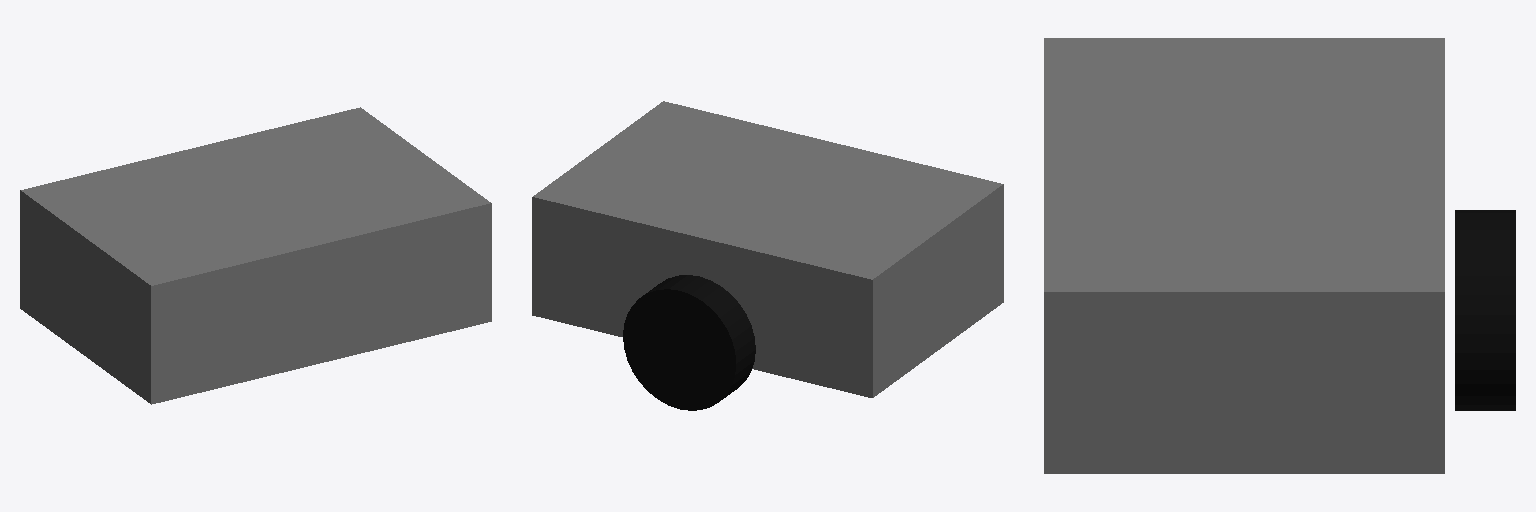
robot.urdf — kept_blocks:
<?xml version="1.0"?>
<!-- A robot with blocks the builder keeps as written. -->
<robot name="kept_blocks">
  <material name="grey">
    <color rgba="0.5 0.5 0.5 1"/>
  </material>
  <material name="black">
    <color rgba="0.1 0.1 0.1 1"/>
  </material>
  <!-- the base -->
  <link name="base_link">
    <visual>
      <geometry><box size="0.3 0.2 0.1"/></geometry>
      <material name="grey"/>
    </visual>
    <collision>
      <geometry><box size="0.3 0.2 0.1"/></geometry>
    </collision>
    <inertial>
      <origin xyz="0 0 0"/>
      <mass value="2"/>
      <inertia ixx="0.01" ixy="0" ixz="0" iyy="0.02" iyz="0" izz="0.025"/>
    </inertial>
  </link>
  <link name="wheel">
    <visual>
      <origin xyz="0 0 0" rpy="1.5707963267948966 0 0"/>
      <geometry><cylinder radius="0.05" length="0.03"/></geometry>
      <material name="black"/>
    </visual>
    <collision>
      <origin xyz="0 0 0" rpy="1.5707963267948966 0 0"/>
      <geometry><cylinder radius="0.05" length="0.03"/></geometry>
    </collision>
    <inertial>
      <origin xyz="0 0 0"/>
      <mass value="0.2"/>
      <inertia ixx="1e-04" ixy="0" ixz="0" iyy="2e-04" iyz="0" izz="1e-04"/>
    </inertial>
  </link>
  <joint name="wheel_joint" type="continuous">
    <parent link="base_link"/>
    <child link="wheel"/>
    <origin xyz="0 0.12 -0.03" rpy="0 0 0"/>
    <axis xyz="0 1 0"/>
    <limit effort="2" velocity="20"/>
    <safety_controller k_velocity="10"/>
  </joint>
  <transmission name="wheel_transmission">
    <type>transmission_interface/SimpleTransmission</type>
    <joint name="wheel_joint">
      <hardwareInterface>hardware_interface/EffortJointInterface</hardwareInterface>
    </joint>
  </transmission>
  <gazebo reference="wheel">
    <mu1>0.9</mu1>
    <sensor_material preset="black_rubber"/>
  </gazebo>
  <gazebo reference="base_link">
    <mu1>0.5</mu1>
  </gazebo>
  <gazebo reference="base_link">
    <sensor name="front_range" type="rangefinder">
      <pose>0.15 0 0 0 0 0</pose>
      <update_rate>20</update_rate>
      <rangefinder>
        <range>
          <max>8</max>
        </range>
      </rangefinder>
    </sensor>
  </gazebo>
  <gazebo reference="base_link">
    <sensor name="rear_range" type="rangefinder">
      <pose>0 0 0 0 0 0</pose>
      <update_rate>20</update_rate>
      <rangefinder>
        <range>
          <max>4</max>
          <min>0.05</min>
        </range>
      </rangefinder>
    </sensor>
  </gazebo>
  <gazebo reference="base_link">
    <sensor name="imu" type="imu">
      <pose>0 0 0 0 0 0</pose>
      <update_rate>100</update_rate>
      <latency>0.002</latency>
      <imu>
        <angular_velocity>
          <x>
            <noise type="gaussian">
              <stddev>0.001</stddev>
            </noise>
          </x>
          <y>
            <noise type="gaussian">
              <stddev>0.001</stddev>
            </noise>
          </y>
          <z>
            <noise type="gaussian">
              <stddev>0.001</stddev>
            </noise>
          </z>
        </angular_velocity>
      </imu>
    </sensor>
  </gazebo>
  <gazebo reference="base_link">
    <sensor name="lidar" type="gpu_lidar">
      <pose>0 0 0.08 0 0 0</pose>
      <update_rate>10</update_rate>
      <lidar>
        <range>
          <max>12</max>
        </range>
        <scan>
          <horizontal>
            <samples>360</samples>
          </horizontal>
        </scan>
      </lidar>
      <topic>scan</topic>
    </sensor>
  </gazebo>
  <ros2_control name="LagrangeSystem" type="system">
    <hardware>
      <plugin>lagrange_ros2_control/LagrangeSystem</plugin>
    </hardware>
    <joint name="wheel_joint">
      <command_interface name="velocity"/>
      <state_interface name="position"/>
    </joint>
  </ros2_control>
</robot>

--- Render facts (derived) ---
The picture shows the robot from 3 angles, left to right: view 1: azimuth 30°, elevation 25°; view 2: azimuth 150°, elevation 25°; view 3: azimuth 270°, elevation 25°; orthographic projection.
Robot: kept_blocks — 2 links, 1 joints (1 continuous); root link base_link; default pose: every joint at zero.
Visible links, largest first — view 1: base_link; view 2: base_link, wheel; view 3: base_link, wheel.
Link boxes in pixels (x1,y1,x2,y2): base_link: (20,107,491,404); base_link: (532,101,1003,397); wheel: (623,275,755,410); base_link: (1044,38,1444,473); wheel: (1455,210,1515,410).
Bounding box of the posed robot: 0.3 × 0.235 × 0.13 m (x, y, z).
Geometry: primitives only (box / cylinder / sphere), no mesh files.
